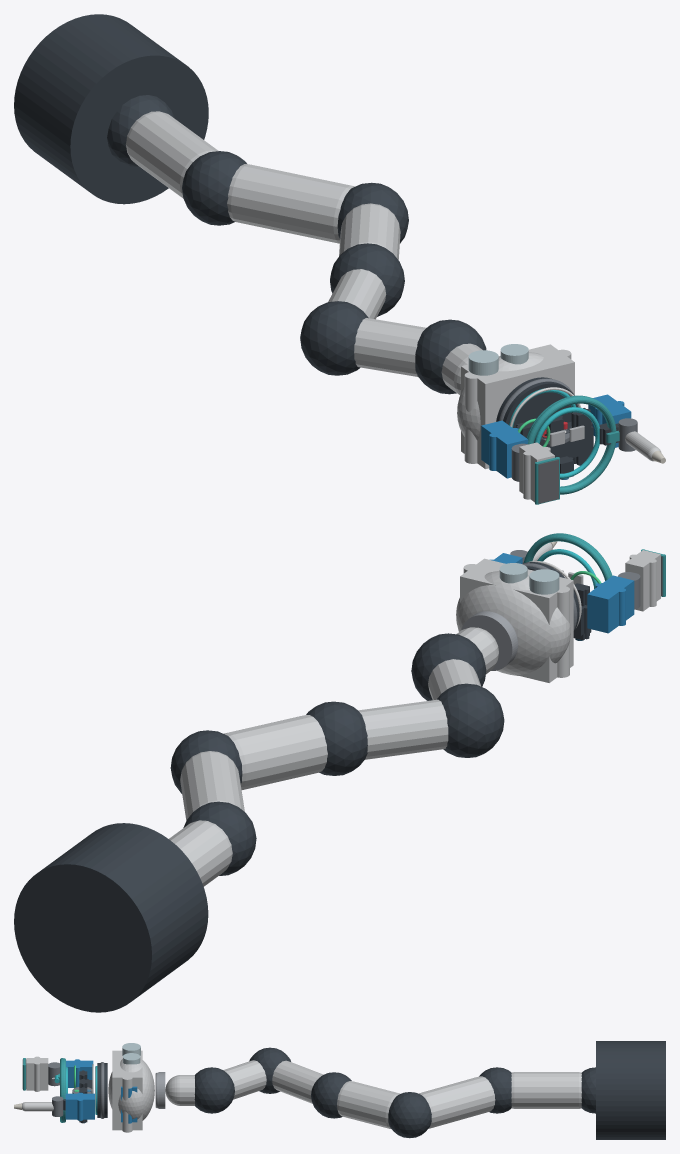
Rendered from dranmar_franka_perfusion_assembly.glb.
The picture shows the model from 3 angles, top to bottom: view 1: azimuth 30°, elevation 25°; view 2: azimuth 150°, elevation 25°; view 3: azimuth 270°, elevation 25°; orthographic projection. The views are drawn at different scales.
Visible parts, largest first — view 1: Base, ArmLink1, Tool_Mount_HousingCore, ArmLink0, Joint4, Joint1, ArmLink4, Joint5, Joint3, ArmLink2, Joint0, ArmLink3 (+12 smaller); view 2: Base, Tool_Mount_MainHousing, ArmLink2, ArmLink3, Joint4, Tool_Mount_HousingCore, ArmLink1, Joint3, ArmLink0, Joint5, Joint1, Tool_UltrasoundCarriage_UltrasoundRailBlock (+7 smaller); view 3: Base, ArmLink0, ArmLink1, ArmLink2, Joint2, Joint5, Tool_Mount_HousingCore, Tool_Mount_MainHousing, ArmLink3, Joint3, ArmLink4, Joint1 (+16 smaller).
Part boxes in pixels (bbox=[...]): Base: bbox=[14, 14, 208, 204]; ArmLink1: bbox=[227, 164, 354, 243]; Tool_Mount_HousingCore: bbox=[461, 344, 574, 469]; ArmLink0: bbox=[126, 111, 218, 198]; Joint4: bbox=[300, 301, 368, 375]; Joint1: bbox=[182, 151, 246, 225]; ArmLink4: bbox=[354, 318, 426, 376]; Joint5: bbox=[415, 319, 486, 394]; Joint3: bbox=[330, 243, 404, 316]; ArmLink2: bbox=[339, 203, 400, 259]; Joint0: bbox=[107, 95, 174, 166]; ArmLink3: bbox=[328, 269, 386, 319]; Base: bbox=[14, 823, 208, 1012]; Tool_Mount_MainHousing: bbox=[456, 571, 570, 675]; ArmLink2: bbox=[223, 715, 327, 789]; ArmLink3: bbox=[358, 699, 448, 759]; Joint4: bbox=[437, 683, 504, 757]; Tool_Mount_HousingCore: bbox=[460, 558, 573, 682]; ArmLink1: bbox=[180, 751, 244, 820]; Joint3: bbox=[306, 701, 367, 775]; ArmLink0: bbox=[169, 820, 232, 886]; Joint5: bbox=[411, 633, 486, 700]; Joint1: bbox=[183, 801, 256, 875]; Tool_UltrasoundCarriage_UltrasoundRailBlock: bbox=[587, 575, 634, 633]; Base: bbox=[596, 1041, 665, 1139]; ArmLink0: bbox=[511, 1072, 581, 1108]; ArmLink1: bbox=[418, 1076, 495, 1128]; ArmLink2: bbox=[337, 1081, 400, 1128]; Joint2: bbox=[388, 1092, 431, 1138]; Joint5: bbox=[194, 1067, 234, 1113]; Tool_Mount_HousingCore: bbox=[112, 1050, 142, 1132]; Tool_Mount_MainHousing: bbox=[108, 1059, 154, 1120]; ArmLink3: bbox=[272, 1060, 323, 1103]; Joint3: bbox=[311, 1072, 351, 1118]; ArmLink4: bbox=[223, 1060, 266, 1099]; Joint1: bbox=[479, 1067, 511, 1113].
Size of the model in its own units: 0.26 by 0.17 by 1.12.
